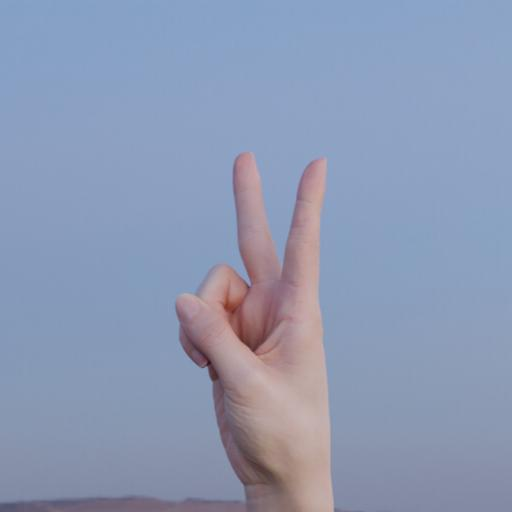V: (155, 124, 351, 503)
